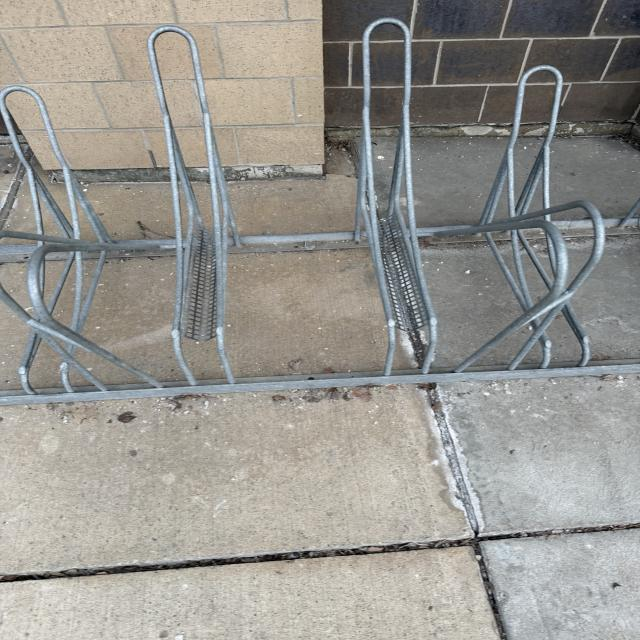Bicycle Rack: (0, 18, 640, 408)
